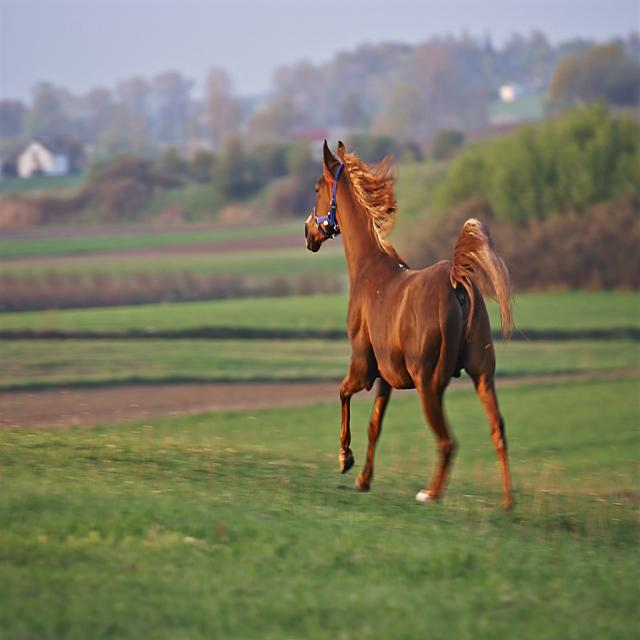Horse: (302, 138, 518, 512)
